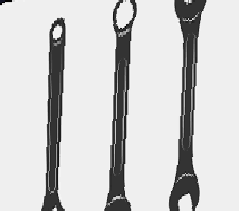Wrench: (169, 1, 208, 211)
